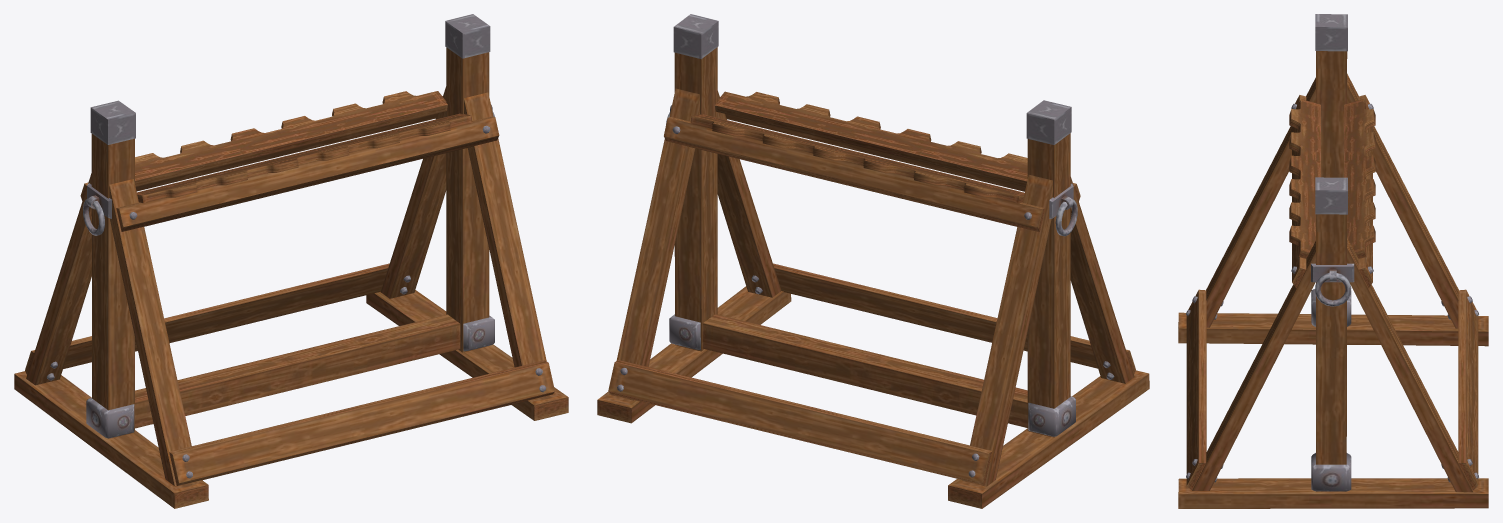
Rendered from weapon_rack.glb.
3 views of the same model, side by side, from view 1: azimuth 30°, elevation 25°; view 2: azimuth 150°, elevation 25°; view 3: azimuth 270°, elevation 25° (orthographic). The views are drawn at different scales.
Parts seen in each view (by area): view 1: WeaponStand; view 2: WeaponStand; view 3: WeaponStand.
Boxes of the visible parts, x1,y1,x2,y2 form: WeaponStand: (14, 14, 568, 508); WeaponStand: (597, 14, 1149, 508); WeaponStand: (1178, 14, 1488, 508).
Size of the model in its own units: 1.39 by 1.11 by 0.9831.
2 materials, 2 textured.
